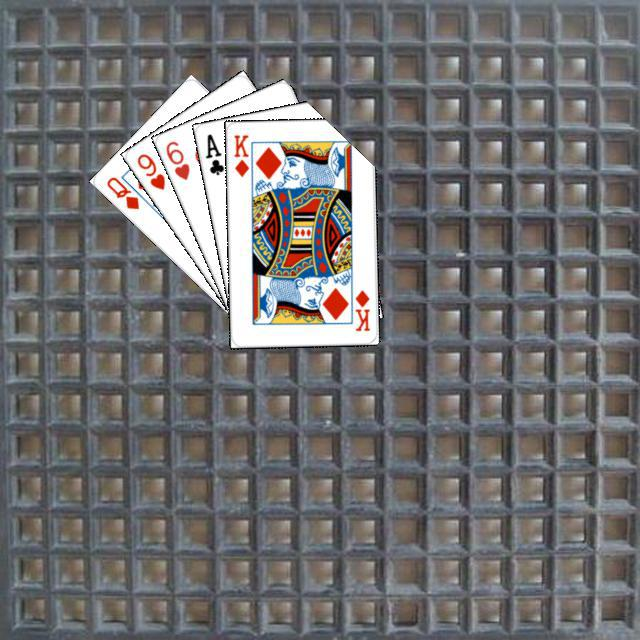6h: (161, 136, 191, 182)
9h: (132, 149, 167, 192)
Ac: (200, 129, 226, 177)
Kd: (229, 130, 250, 178), (350, 285, 371, 333)
Qd: (102, 172, 141, 211)
